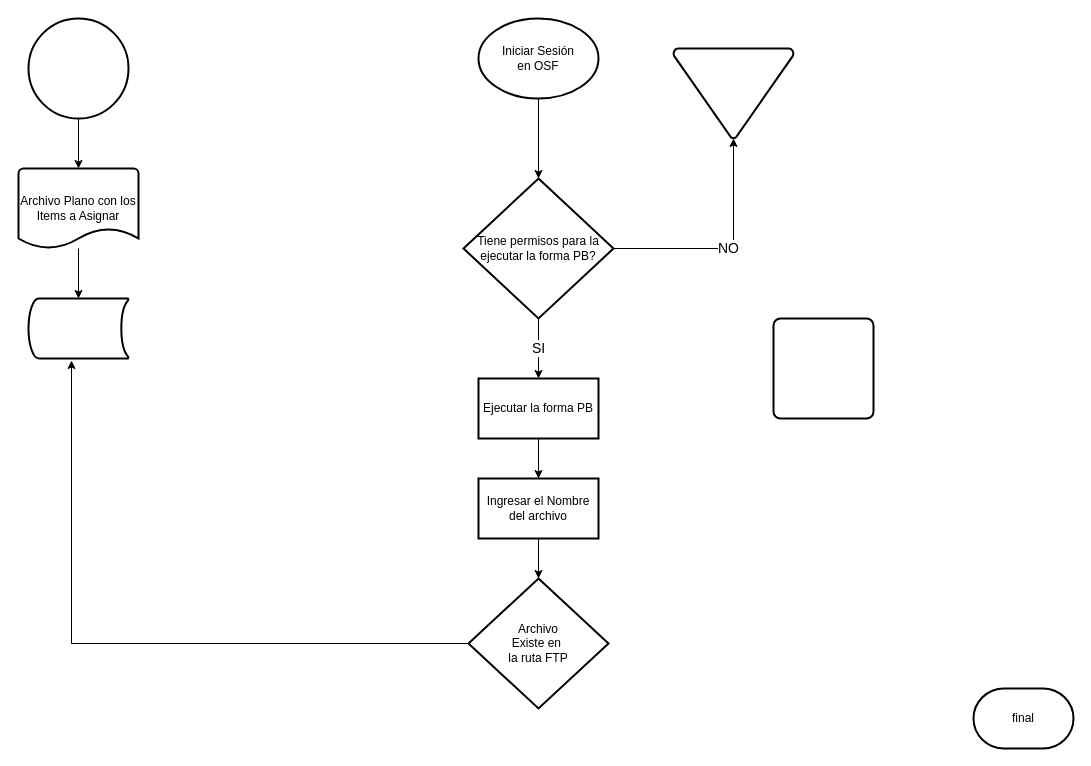
The diagram is 1091 pixels wide and 766 high, and some of its shapes have lost their labels. Each missing label, with the box of its shape:
Cargar Archivo Plano al SFTP OSF CEO8: (27, 297, 129, 359)
Inicio del flujo: (27, 17, 129, 119)
Solicitar Acceso a la Forma: (672, 47, 794, 139)
